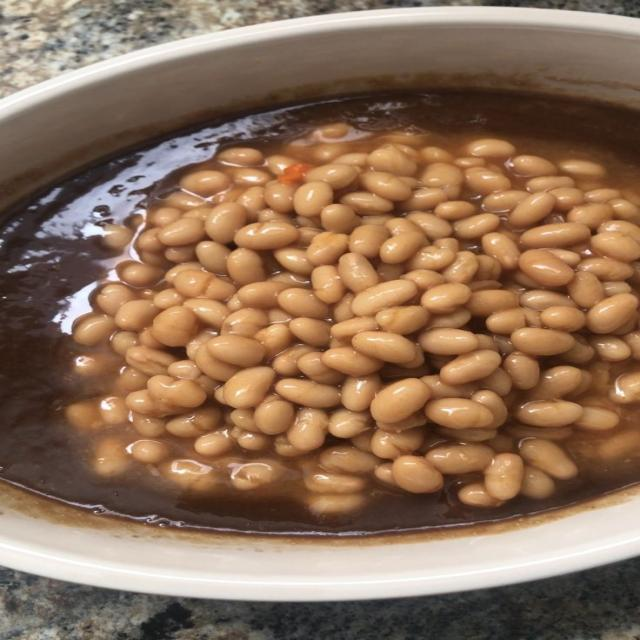beans: (67, 122, 639, 514), (371, 379, 430, 422), (520, 438, 577, 479), (352, 280, 418, 315), (440, 349, 501, 384), (425, 398, 493, 429), (224, 367, 275, 408), (587, 294, 638, 334), (426, 444, 493, 474), (519, 250, 573, 287), (352, 331, 414, 363), (160, 460, 220, 493), (174, 270, 236, 300), (207, 335, 265, 367), (147, 376, 206, 407), (234, 222, 299, 250), (515, 400, 582, 427), (393, 456, 443, 492), (152, 306, 197, 346), (322, 347, 382, 377), (275, 379, 339, 407), (287, 407, 328, 450), (520, 223, 590, 248), (485, 454, 523, 499), (511, 328, 574, 355), (371, 427, 424, 459), (205, 203, 246, 244), (319, 445, 379, 473), (338, 253, 379, 293), (420, 163, 464, 199), (420, 283, 471, 313), (230, 461, 282, 490), (278, 288, 328, 318), (375, 306, 428, 334), (360, 172, 411, 201), (348, 224, 390, 259), (305, 471, 366, 495), (126, 347, 178, 375), (341, 374, 380, 411), (227, 249, 266, 286), (73, 314, 119, 345), (380, 232, 424, 264), (471, 390, 508, 428), (294, 181, 333, 217), (367, 147, 417, 175), (184, 298, 229, 329), (307, 232, 348, 266), (305, 163, 358, 189), (254, 400, 294, 434), (114, 300, 159, 330), (158, 218, 206, 246), (503, 352, 539, 389), (482, 233, 519, 269), (567, 272, 604, 308), (94, 438, 129, 476), (467, 290, 518, 316), (180, 171, 231, 197), (312, 266, 346, 304), (328, 409, 372, 438), (237, 282, 286, 308), (597, 430, 639, 460), (407, 212, 452, 240), (331, 317, 379, 343), (271, 346, 314, 375), (579, 258, 633, 281), (465, 168, 511, 195), (195, 241, 231, 275), (566, 203, 613, 229), (340, 192, 393, 215), (520, 289, 575, 311), (307, 494, 364, 515), (454, 213, 500, 239), (540, 306, 586, 332), (117, 261, 163, 287), (408, 246, 455, 271), (320, 204, 360, 233), (289, 318, 330, 346), (442, 252, 479, 283), (520, 466, 554, 499), (458, 483, 502, 508), (399, 188, 446, 211), (574, 407, 619, 431), (486, 308, 526, 335), (66, 400, 104, 428), (482, 190, 528, 213), (590, 336, 631, 361), (559, 159, 606, 180), (466, 139, 515, 159), (511, 155, 557, 176), (129, 440, 169, 464), (609, 372, 639, 404), (265, 182, 295, 213), (438, 427, 496, 443), (597, 220, 639, 242), (401, 270, 443, 291), (427, 308, 471, 328), (217, 148, 264, 166), (102, 224, 133, 251), (550, 187, 584, 211), (608, 198, 639, 224), (434, 201, 476, 220), (99, 396, 127, 424), (132, 414, 165, 437), (527, 176, 574, 192), (110, 331, 140, 356), (153, 288, 185, 309), (547, 249, 581, 267), (420, 147, 454, 163), (374, 462, 396, 486)
